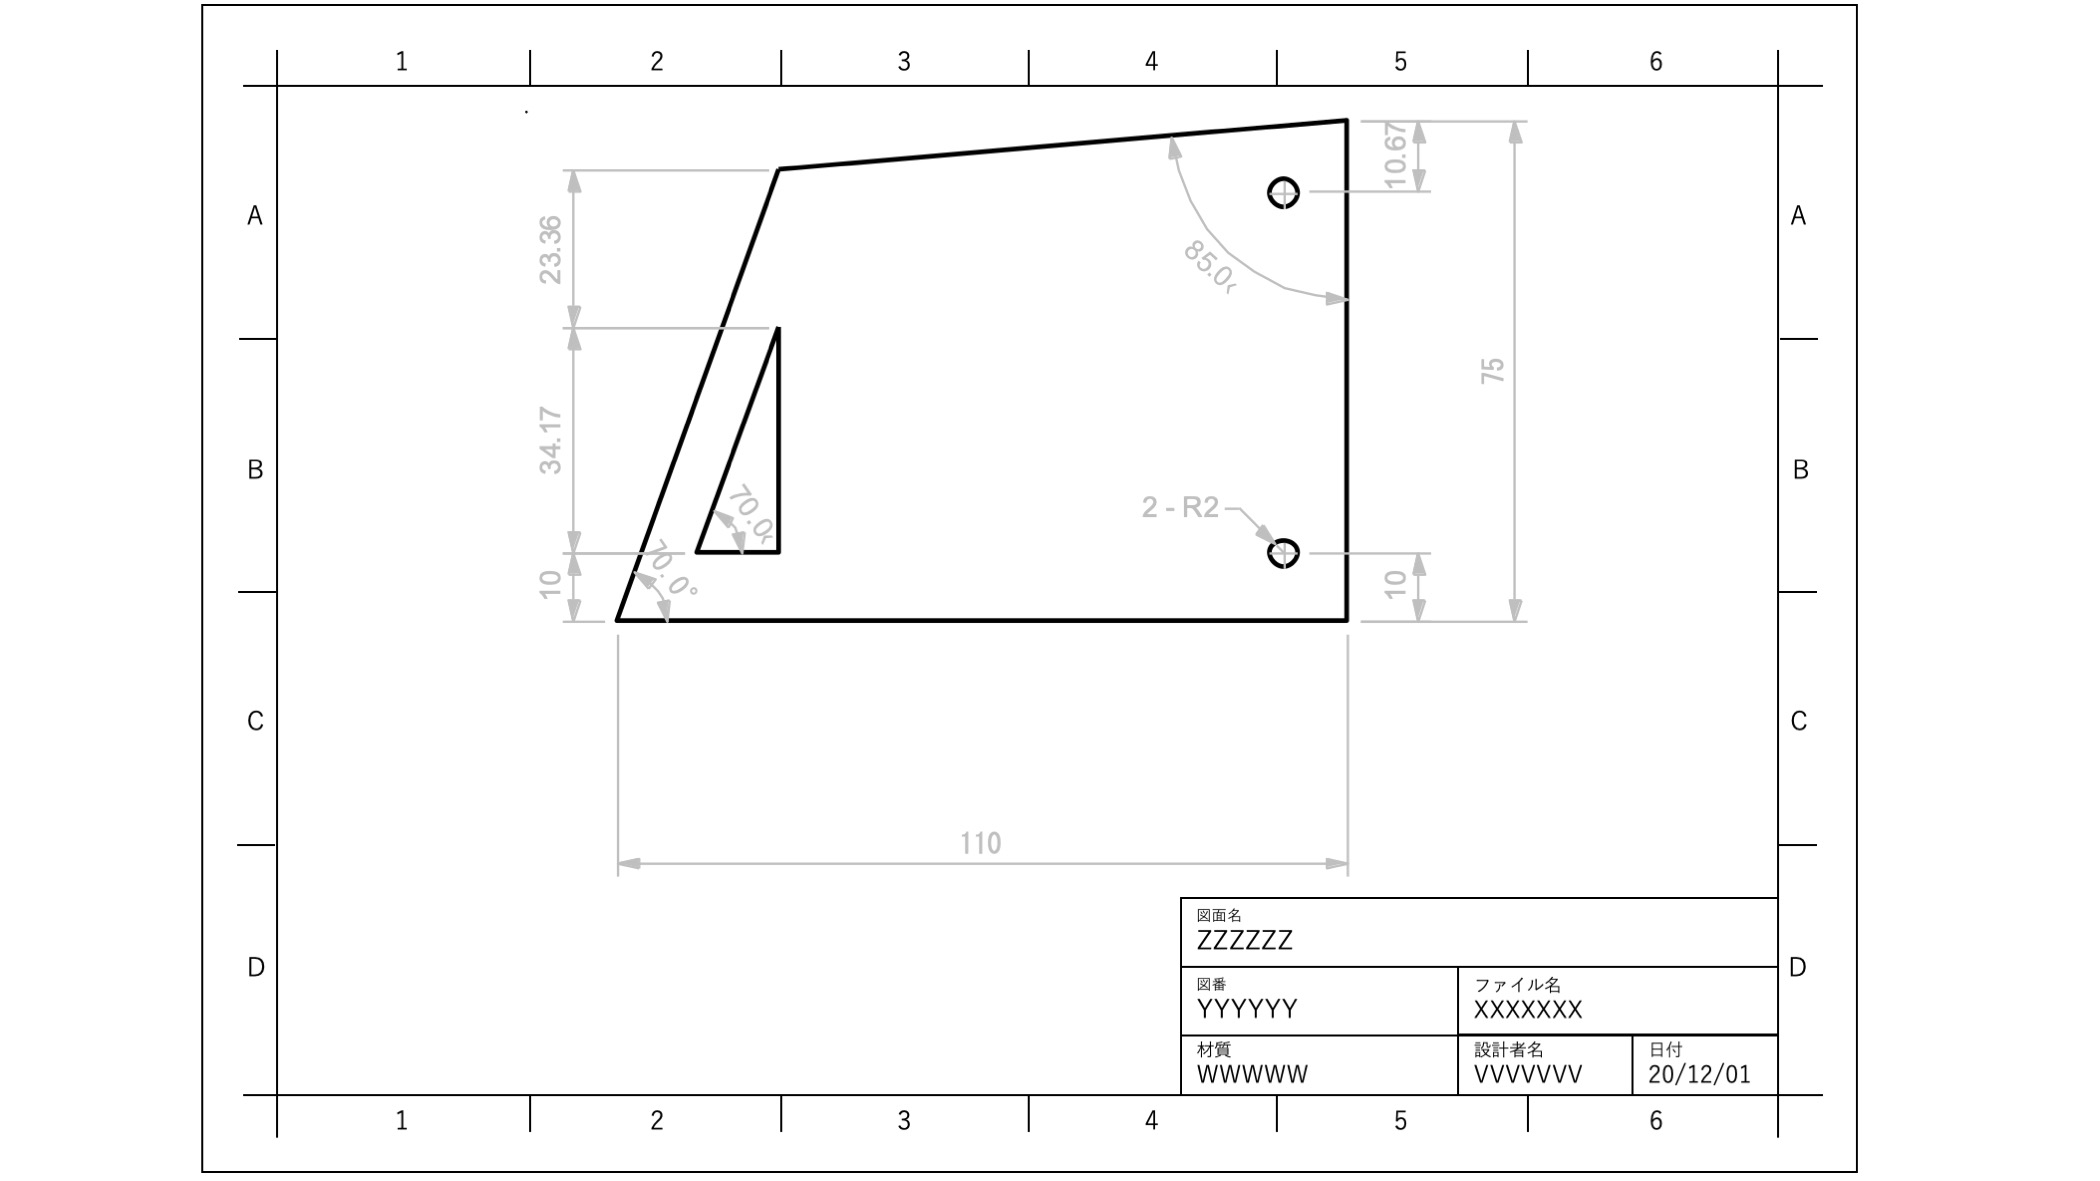circle: (1263, 531, 1305, 572), (1263, 169, 1302, 211)
triangle: (692, 316, 785, 561)
